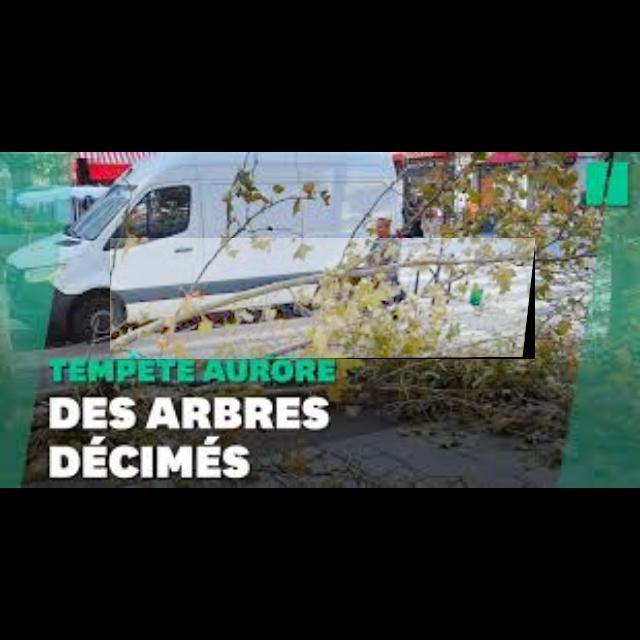fallen_tree: (110, 238, 536, 360)
